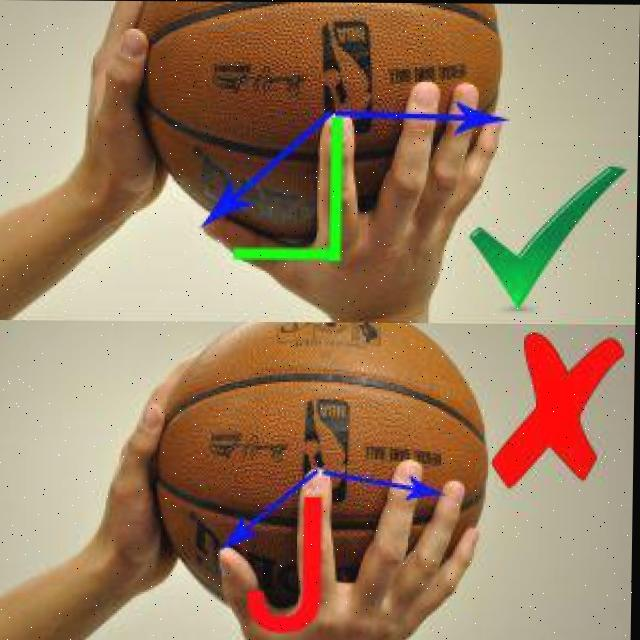basketball: (153, 317, 490, 618), (126, 1, 504, 253)
